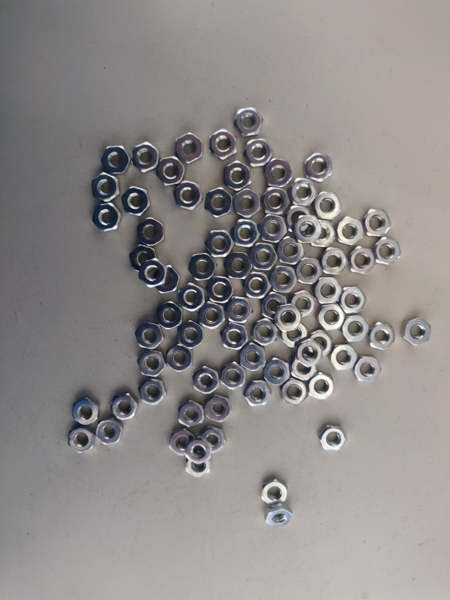nut: (234, 107, 264, 137), (92, 202, 121, 233), (157, 156, 186, 187), (174, 181, 203, 211), (305, 152, 333, 183), (373, 238, 402, 267), (90, 174, 120, 202), (259, 215, 289, 243), (231, 220, 261, 248), (224, 252, 254, 280), (243, 272, 273, 300), (336, 216, 364, 246), (210, 129, 237, 160), (176, 133, 202, 165), (123, 187, 151, 216), (139, 259, 168, 287), (244, 139, 273, 167), (265, 159, 293, 188), (403, 317, 431, 346), (261, 187, 290, 215), (290, 178, 318, 207), (225, 161, 252, 191), (205, 188, 232, 218), (234, 189, 261, 219), (205, 230, 235, 257), (249, 244, 279, 271), (133, 142, 159, 173), (102, 146, 130, 174), (294, 216, 322, 244), (349, 247, 377, 275), (136, 323, 165, 350), (138, 218, 165, 247), (206, 277, 235, 304), (189, 254, 218, 281), (318, 304, 347, 331), (278, 237, 305, 266), (320, 248, 349, 275), (221, 323, 248, 351), (226, 297, 254, 324), (342, 316, 370, 343), (315, 192, 342, 220), (244, 381, 273, 407), (179, 283, 205, 312), (205, 396, 232, 423), (341, 287, 368, 314), (315, 277, 342, 304), (271, 266, 298, 293), (112, 393, 138, 421), (201, 427, 227, 455), (265, 358, 291, 386), (276, 304, 302, 332), (370, 322, 396, 350), (365, 209, 391, 237), (298, 339, 323, 368), (235, 190, 260, 219), (320, 426, 347, 452), (139, 379, 166, 405), (138, 351, 165, 377), (194, 367, 220, 394), (356, 356, 382, 383), (331, 344, 358, 370), (130, 245, 156, 272), (297, 258, 323, 285), (180, 401, 205, 429), (179, 321, 204, 349), (158, 302, 183, 330), (253, 318, 278, 346), (242, 344, 267, 371), (156, 266, 181, 293), (282, 323, 309, 348), (309, 330, 334, 357), (262, 293, 287, 320), (311, 221, 336, 248), (222, 362, 246, 390), (200, 302, 224, 330), (69, 428, 95, 453), (310, 375, 335, 401), (74, 399, 98, 426), (168, 345, 192, 372), (265, 506, 294, 528), (186, 440, 211, 465), (283, 380, 308, 405), (292, 291, 316, 317), (288, 206, 311, 233), (97, 420, 122, 444), (170, 432, 195, 456), (263, 481, 288, 504), (186, 461, 211, 478), (293, 362, 317, 379)
